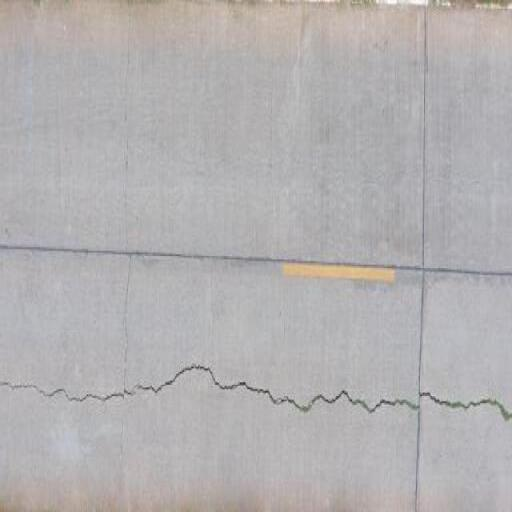severe crack: (2, 351, 320, 423), (319, 349, 512, 443)
